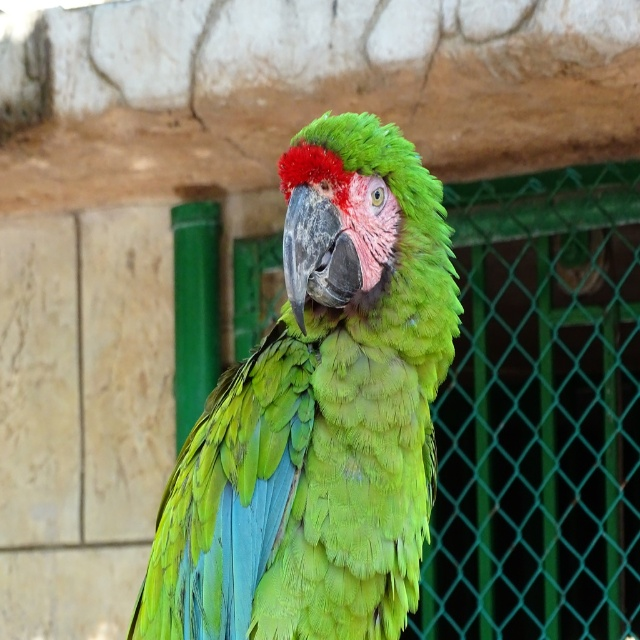Parrot: (127, 110, 464, 639)
